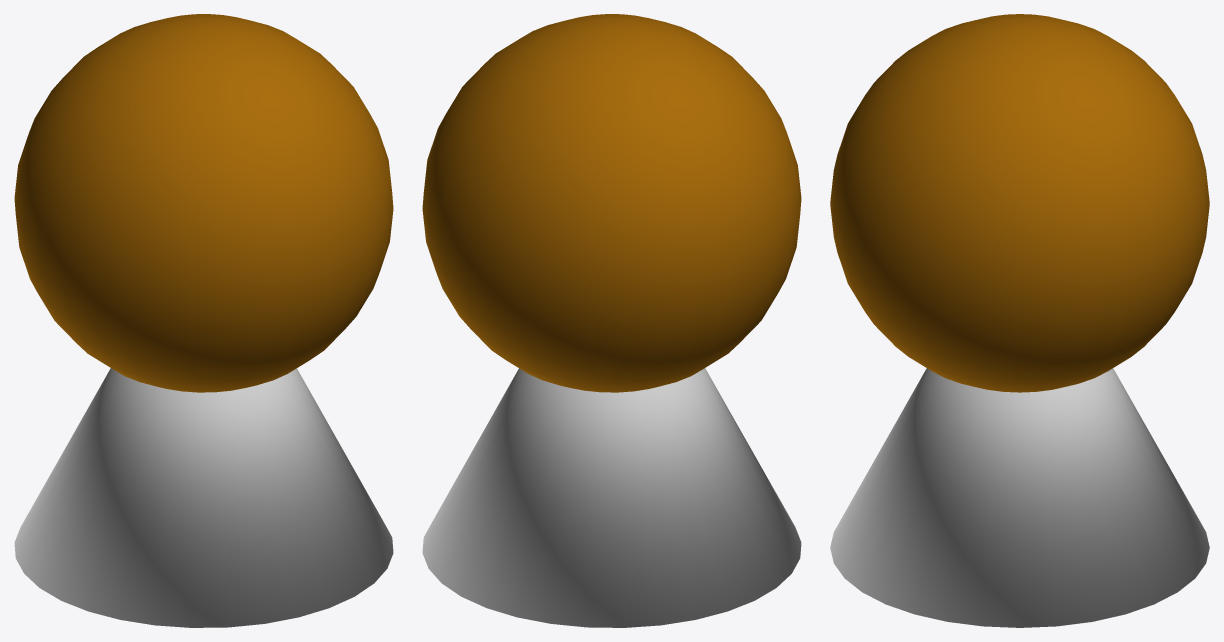
Rendered from crap.obj.
3 renders of one model, left to right at view 1: azimuth 30°, elevation 25°; view 2: azimuth 150°, elevation 25°; view 3: azimuth 270°, elevation 25°, orthographic.
Visible parts, largest first — view 1: Sphere, Cone; view 2: Sphere, Cone; view 3: Sphere, Cone.
Part boxes in pixels (left/top/right/bottom): Sphere: left=14, top=14, right=393, bottom=392; Cone: left=14, top=368, right=393, bottom=627; Sphere: left=422, top=14, right=801, bottom=392; Cone: left=422, top=368, right=801, bottom=627; Sphere: left=830, top=14, right=1209, bottom=392; Cone: left=830, top=368, right=1209, bottom=627.
Bounding box in the file's own units: 2 × 3 × 2.
